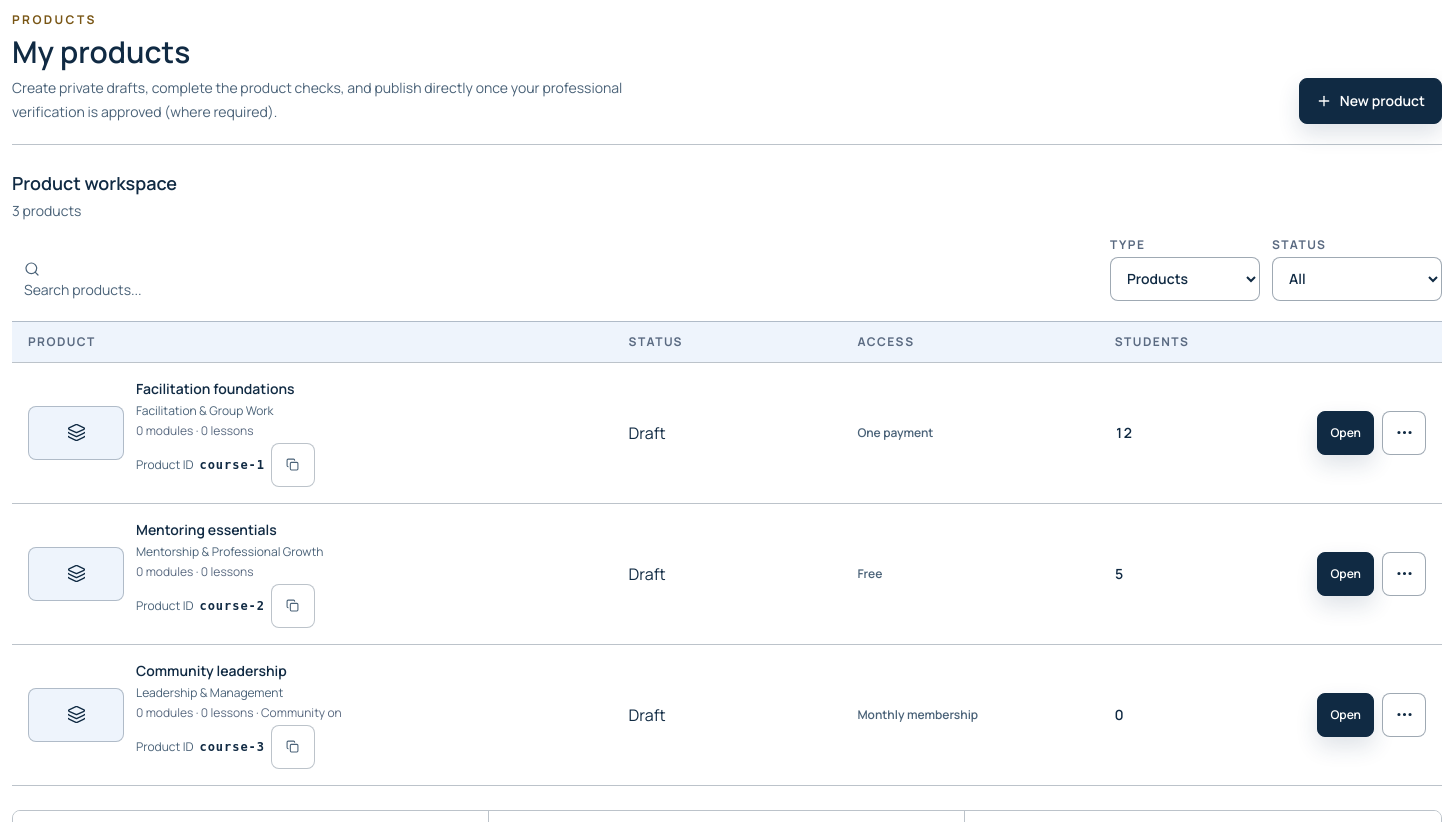
Test case: TeacherCourseStudio — lista de produtos › shows desktop column headers and keeps one primary action per course
Check: the column heading "Product" is shown, box [12,321,613,362]
Check: the column heading "Status" is shown, box [613,321,841,362]
Click the button named "More actions for Facilitation foundations": x=1404, y=432 [1382,410,1426,454]
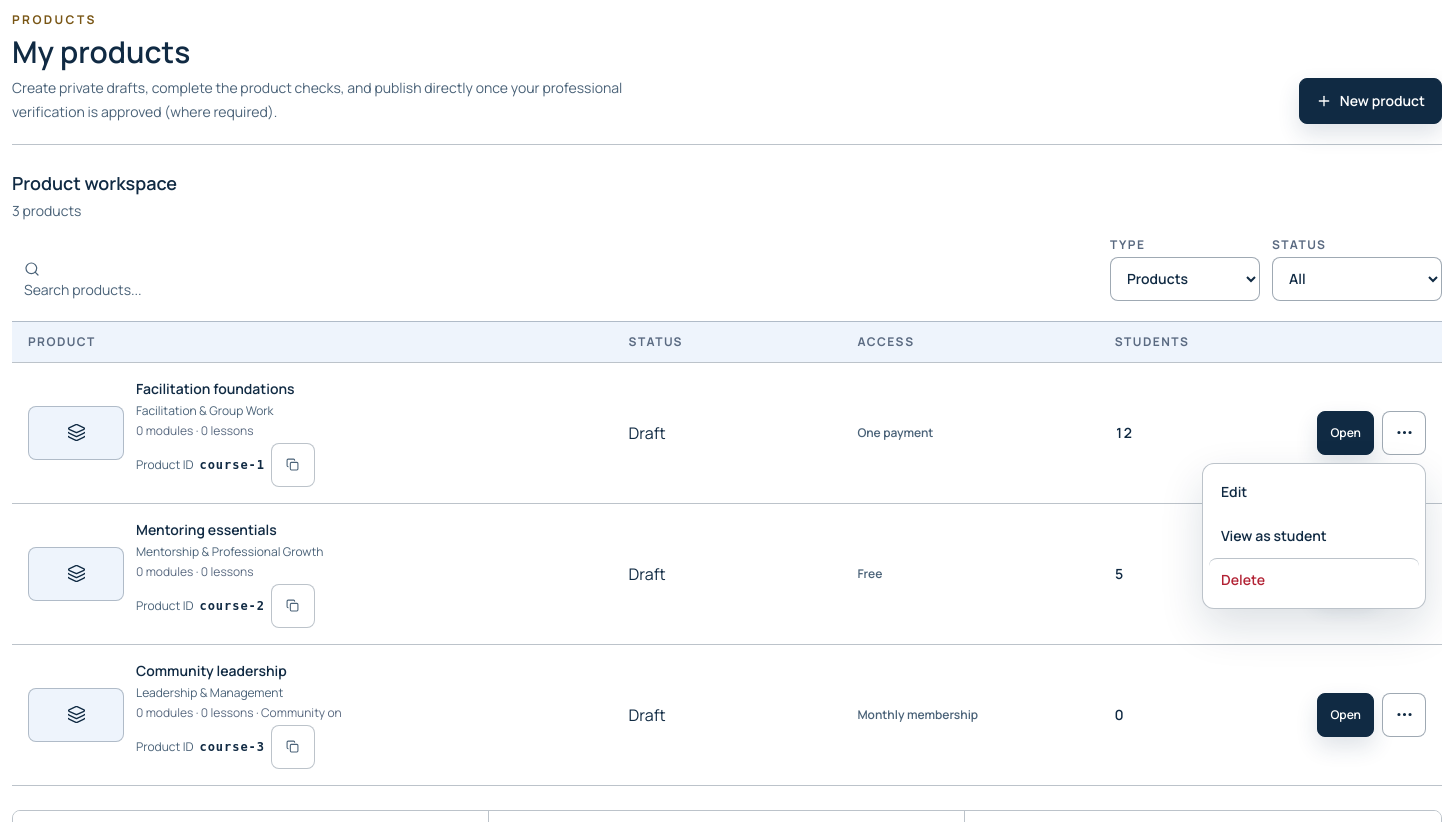
Check: the menu item "Edit" is shown, box [1221,482,1247,500]
Check: the menu item "View as student" is shown, box [1221,526,1327,544]
Check: the menu item "Delete" is shown, box [1209,558,1419,602]
